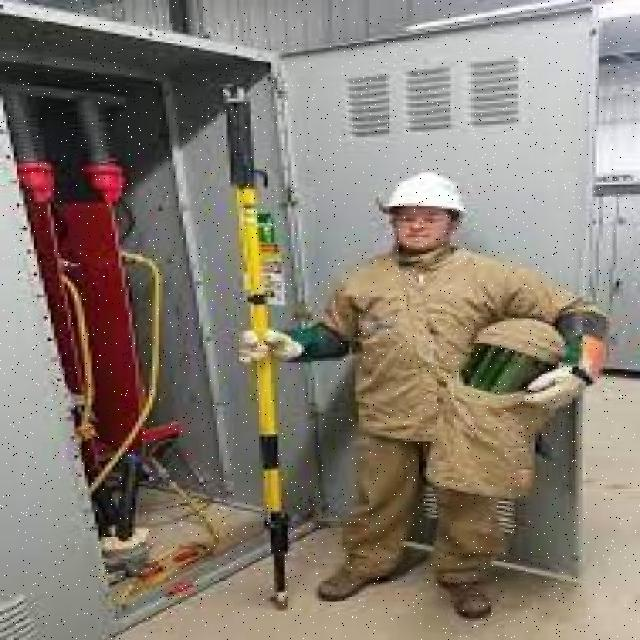Hard_hat: (374, 170, 471, 224)
Person: (268, 173, 608, 613)
